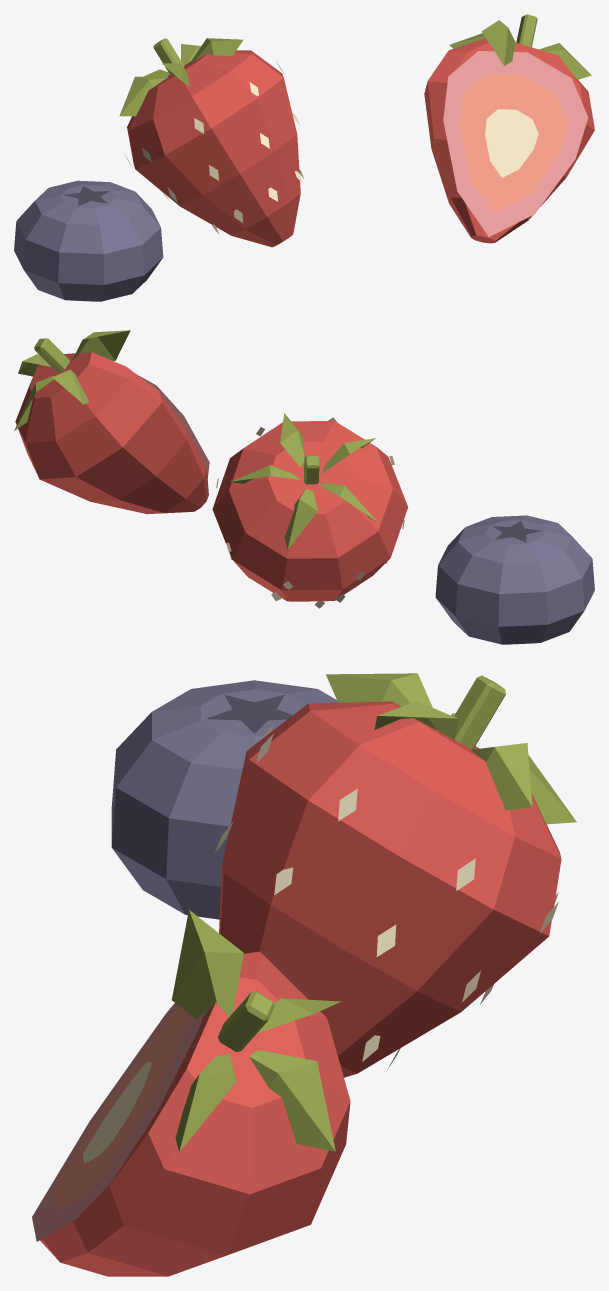
Rendered from 17-blueberry-and-strawberries.glb.
The picture shows the model from 3 angles, top to bottom: view 1: azimuth 30°, elevation 25°; view 2: azimuth 150°, elevation 25°; view 3: azimuth 270°, elevation 25°; orthographic projection. The views are drawn at different scales.
Visible parts, largest first — view 1: Red faceted fruit.001, Cut flesh.003, Blueberry.001; view 2: Red faceted fruit.001, Cut flesh.003, Blueberry.001; view 3: Red faceted fruit.001, Cut flesh.003, Blueberry.001.
Boxes of the visible parts, left/top/right/bottom form: Red faceted fruit.001: left=119, top=38, right=303, bottom=247; Cut flesh.003: left=424, top=14, right=594, bottom=243; Blueberry.001: left=14, top=180, right=163, bottom=301; Red faceted fruit.001: left=212, top=413, right=408, bottom=608; Cut flesh.003: left=14, top=330, right=209, bottom=514; Blueberry.001: left=435, top=515, right=594, bottom=644; Red faceted fruit.001: left=215, top=673, right=576, bottom=1077; Cut flesh.003: left=32, top=910, right=350, bottom=1276; Blueberry.001: left=111, top=680, right=337, bottom=919.
Size of the model in its own units: 2.97 by 0.9713 by 1.28.
